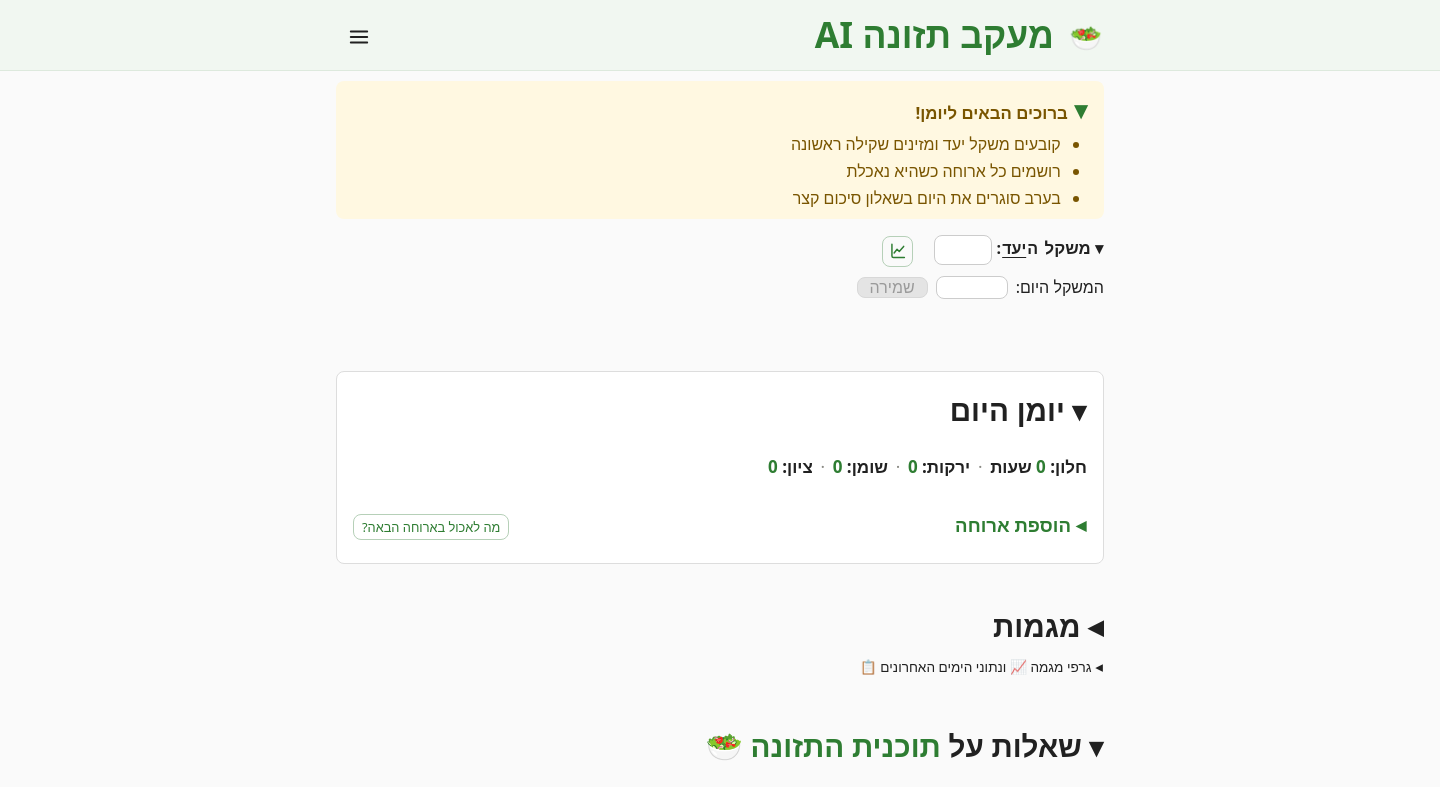
Scenario: App › opens the next sign-in on the condensed view the last press chose
Click the button named "תפריט חשבון": [359, 37] box [336, 13, 382, 60]
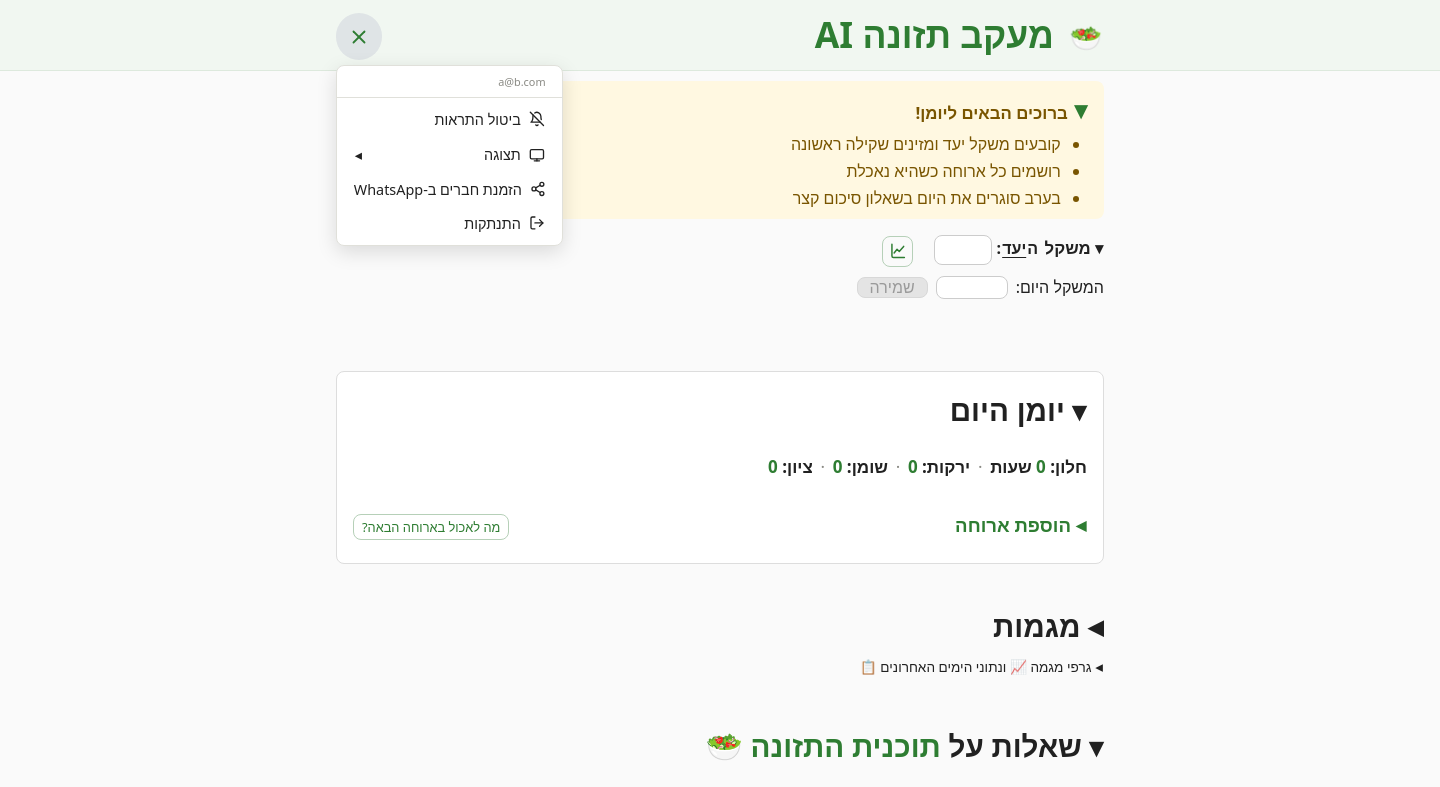
Click the menu item "תצוגה": [450, 155] box [341, 137, 558, 172]
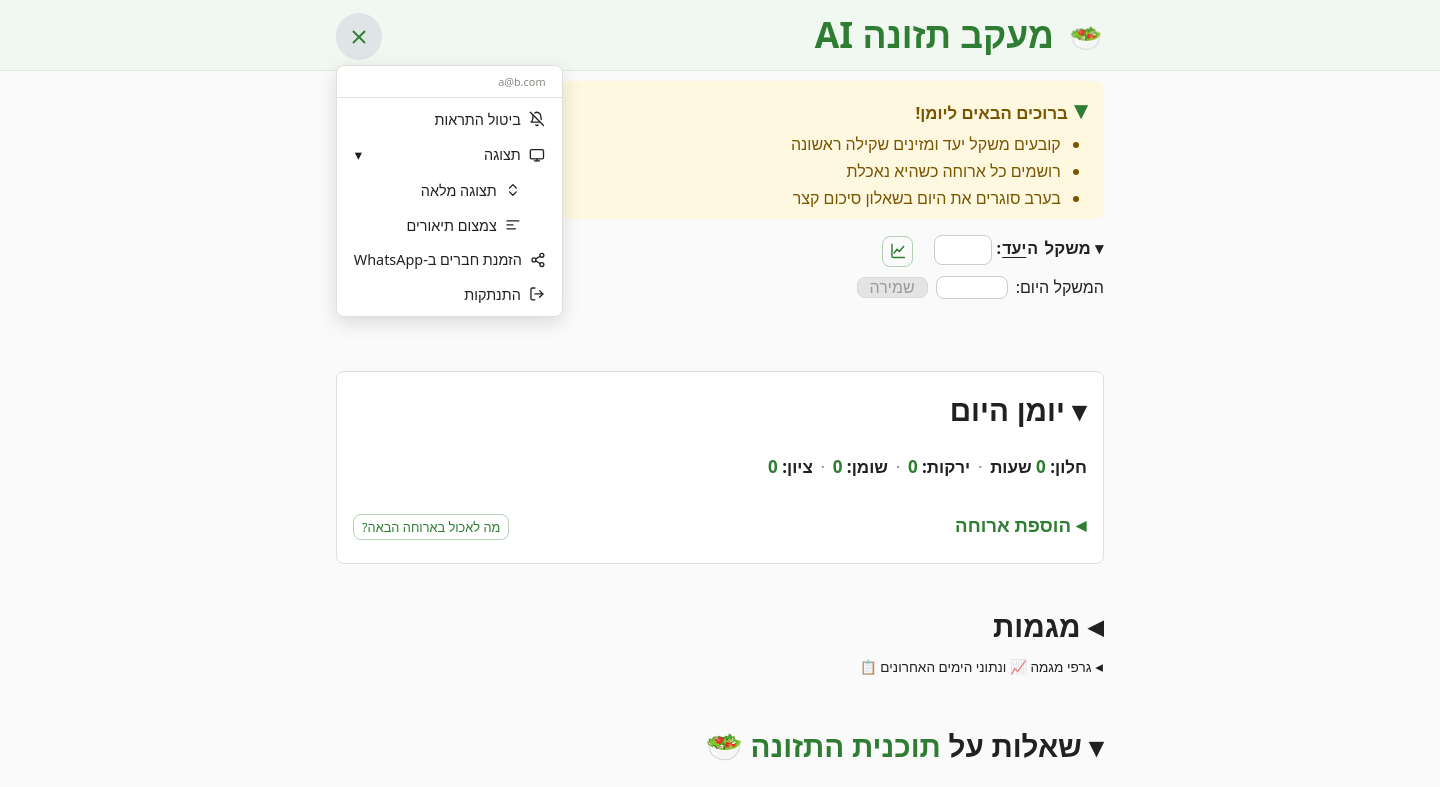
Check: the menu item "תצוגה מלאה" is shown, box [341, 172, 558, 208]
